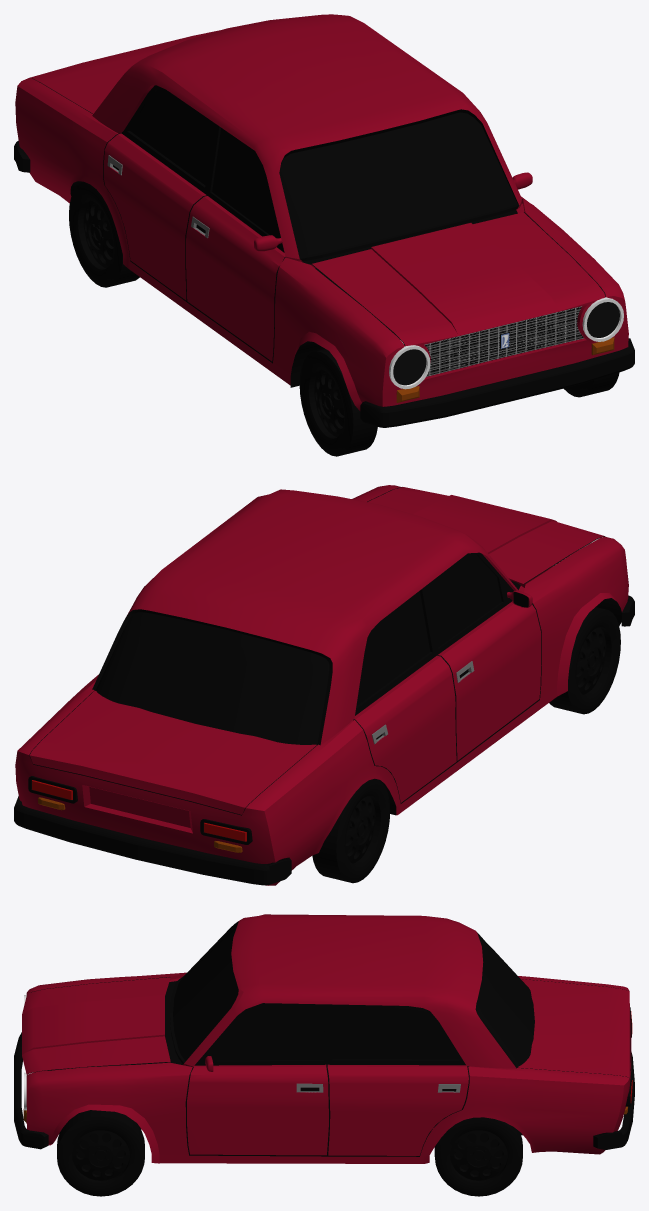
The model's file is Vaz2101.fbx.
The picture shows the model from 3 angles, top to bottom: view 1: azimuth 30°, elevation 25°; view 2: azimuth 150°, elevation 25°; view 3: azimuth 270°, elevation 25°; orthographic projection. The views are drawn at different scales.
Visible parts, largest first — view 1: Kuzov_Vaz2101, Kapot_Vaz2109, door_per_Vaz2101, door_zad_Vaz2101, Peredniy_Bump_Vaz2101, FR_Wheel_Vaz2101, ZR_Wheel_Vaz2101, Bugazh_Vaz2101, steklo_farR_Vaz2101, steklo_farL_Vaz2101, FL_Wheel_Vaz2101; view 2: Kuzov_Vaz2101, Bugazh_Vaz2101, door_per_Vaz2101, door_zad_Vaz2101, Kapot_Vaz2109, Zad_Bump_Vaz2101, ZR_Wheel_Vaz2101, FR_Wheel_Vaz2101; view 3: Kuzov_Vaz2101, door_per_Vaz2101, door_zad_Vaz2101, Kapot_Vaz2109, Bugazh_Vaz2101, FL_Wheel_Vaz2101, ZL_Wheel_Vaz2101, Peredniy_Bump_Vaz2101, Zad_Bump_Vaz2101.
Boxes of the visible parts, x1,y1,x2,y2 form: Kuzov_Vaz2101: [15, 14, 628, 410]; Kapot_Vaz2109: [311, 212, 605, 346]; door_per_Vaz2101: [185, 125, 539, 363]; door_zad_Vaz2101: [103, 85, 216, 301]; Peredniy_Bump_Vaz2101: [360, 338, 634, 427]; FR_Wheel_Vaz2101: [299, 349, 377, 456]; ZR_Wheel_Vaz2101: [69, 182, 139, 287]; Bugazh_Vaz2101: [29, 30, 219, 113]; steklo_farR_Vaz2101: [393, 349, 426, 385]; steklo_farL_Vaz2101: [587, 302, 619, 337]; FL_Wheel_Vaz2101: [564, 372, 619, 397]; Kuzov_Vaz2101: [15, 485, 628, 885]; Bugazh_Vaz2101: [29, 690, 317, 815]; door_per_Vaz2101: [424, 552, 541, 762]; door_zad_Vaz2101: [354, 587, 456, 803]; Kapot_Vaz2109: [367, 487, 605, 583]; Zad_Bump_Vaz2101: [14, 796, 291, 885]; ZR_Wheel_Vaz2101: [312, 778, 390, 883]; FR_Wheel_Vaz2101: [549, 607, 620, 714]; Kuzov_Vaz2101: [23, 914, 632, 1163]; door_per_Vaz2101: [185, 1003, 330, 1156]; door_zad_Vaz2101: [327, 1004, 469, 1156]; Kapot_Vaz2109: [22, 977, 170, 1074]; Bugazh_Vaz2101: [517, 979, 630, 1078]; FL_Wheel_Vaz2101: [57, 1110, 144, 1196]; ZL_Wheel_Vaz2101: [434, 1117, 522, 1196]; Peredniy_Bump_Vaz2101: [14, 1032, 48, 1149]; Zad_Bump_Vaz2101: [593, 1052, 634, 1149].
Size of the model in its own units: 166 by 135 by 394.
